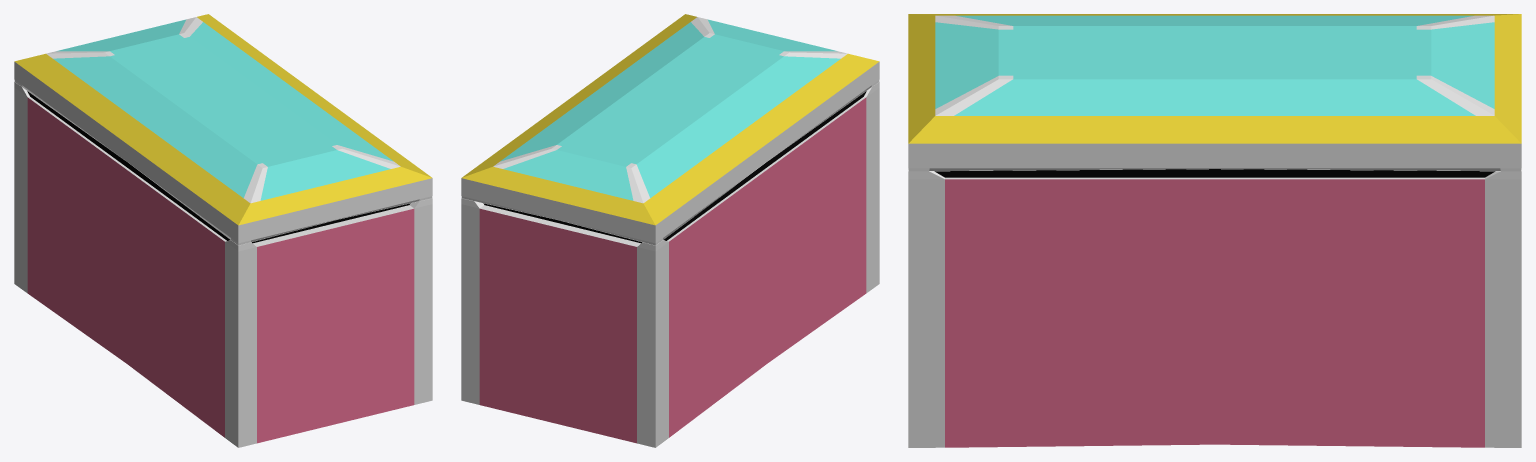
The model's file is ToyBox.fbx.
3 renders of one model, left to right at view 1: azimuth 30°, elevation 25°; view 2: azimuth 150°, elevation 25°; view 3: azimuth 270°, elevation 25°, orthographic. The views are drawn at different scales.
Parts seen in each view (by area): view 1: ToyBox; view 2: ToyBox; view 3: ToyBox.
Boxes of the visible parts, x1,y1,x2,y2 form: ToyBox: [14, 14, 432, 447]; ToyBox: [461, 14, 879, 447]; ToyBox: [908, 14, 1521, 447].
Size of the model in its own units: 0.622 by 0.739 by 1.24.
